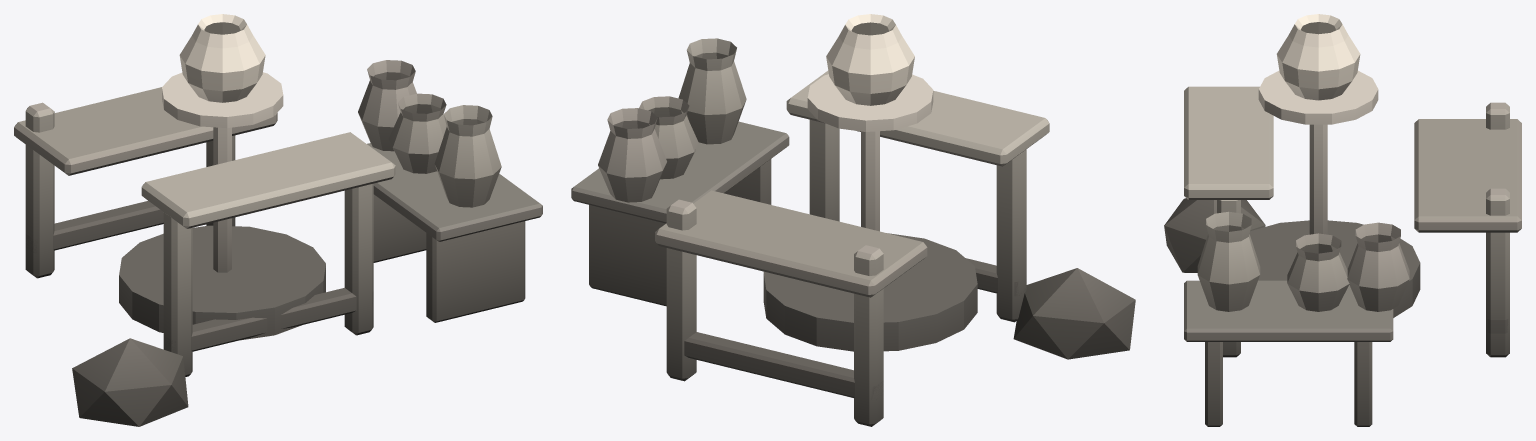
File: SM_VK_Prop_PottersWheel.fbx
3 views of the same model, side by side, from view 1: azimuth 30°, elevation 25°; view 2: azimuth 150°, elevation 25°; view 3: azimuth 270°, elevation 25° (orthographic). The views are drawn at different scales.
Visible parts, largest first — view 1: SM_VK_Prop_PottersWheel.001; view 2: SM_VK_Prop_PottersWheel.001; view 3: SM_VK_Prop_PottersWheel.001.
Part boxes in pixels (<box>): SM_VK_Prop_PottersWheel.001: <box>14,14,542,426</box>; SM_VK_Prop_PottersWheel.001: <box>571,14,1135,426</box>; SM_VK_Prop_PottersWheel.001: <box>1164,14,1521,426</box>.
Bounding box in the file's own units: 1.69 × 1.1 × 1.2.
